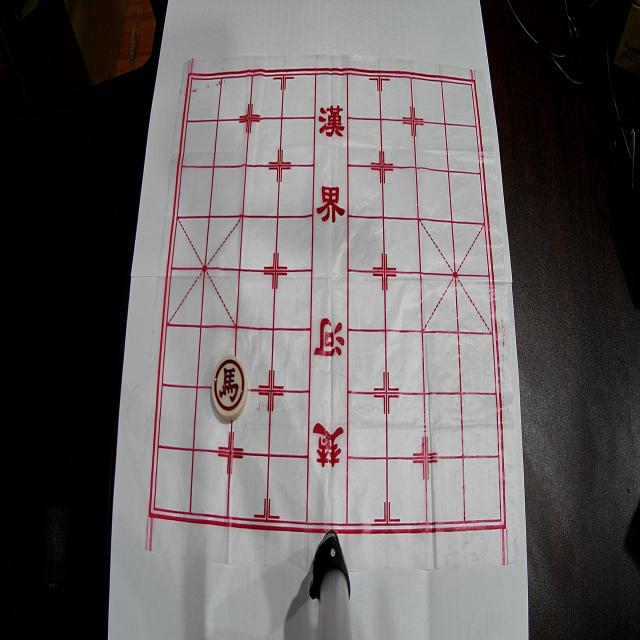red-horse: (212, 355, 248, 421)
